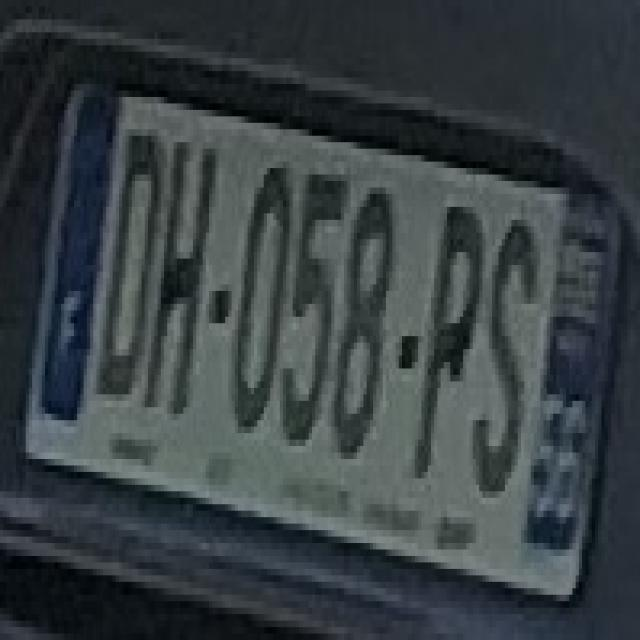EU: (20, 98, 620, 610)
France: (36, 98, 123, 422)
